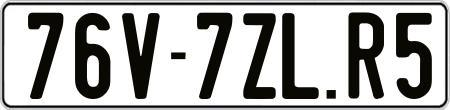5: (393, 12, 430, 103)
6: (74, 11, 114, 100)
7: (26, 11, 63, 101), (197, 13, 235, 100)
L: (279, 12, 316, 104)
R: (345, 12, 387, 104)
V: (120, 13, 162, 105)
Z: (241, 10, 279, 99)
